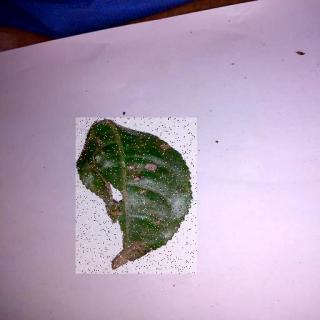Anthracnose: (77, 119, 198, 275)
